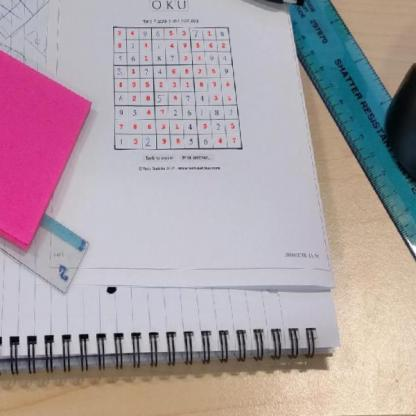sudoku: (109, 24, 244, 154)
